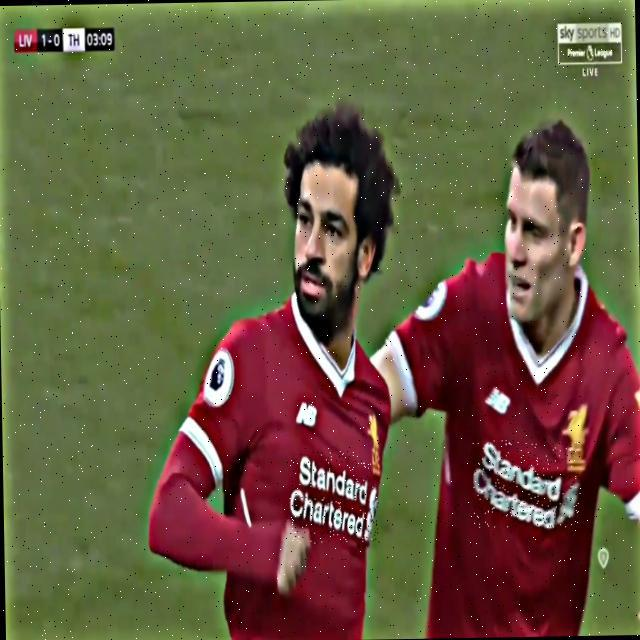Standard Chartered: (473, 439, 581, 529), (288, 451, 379, 544)
